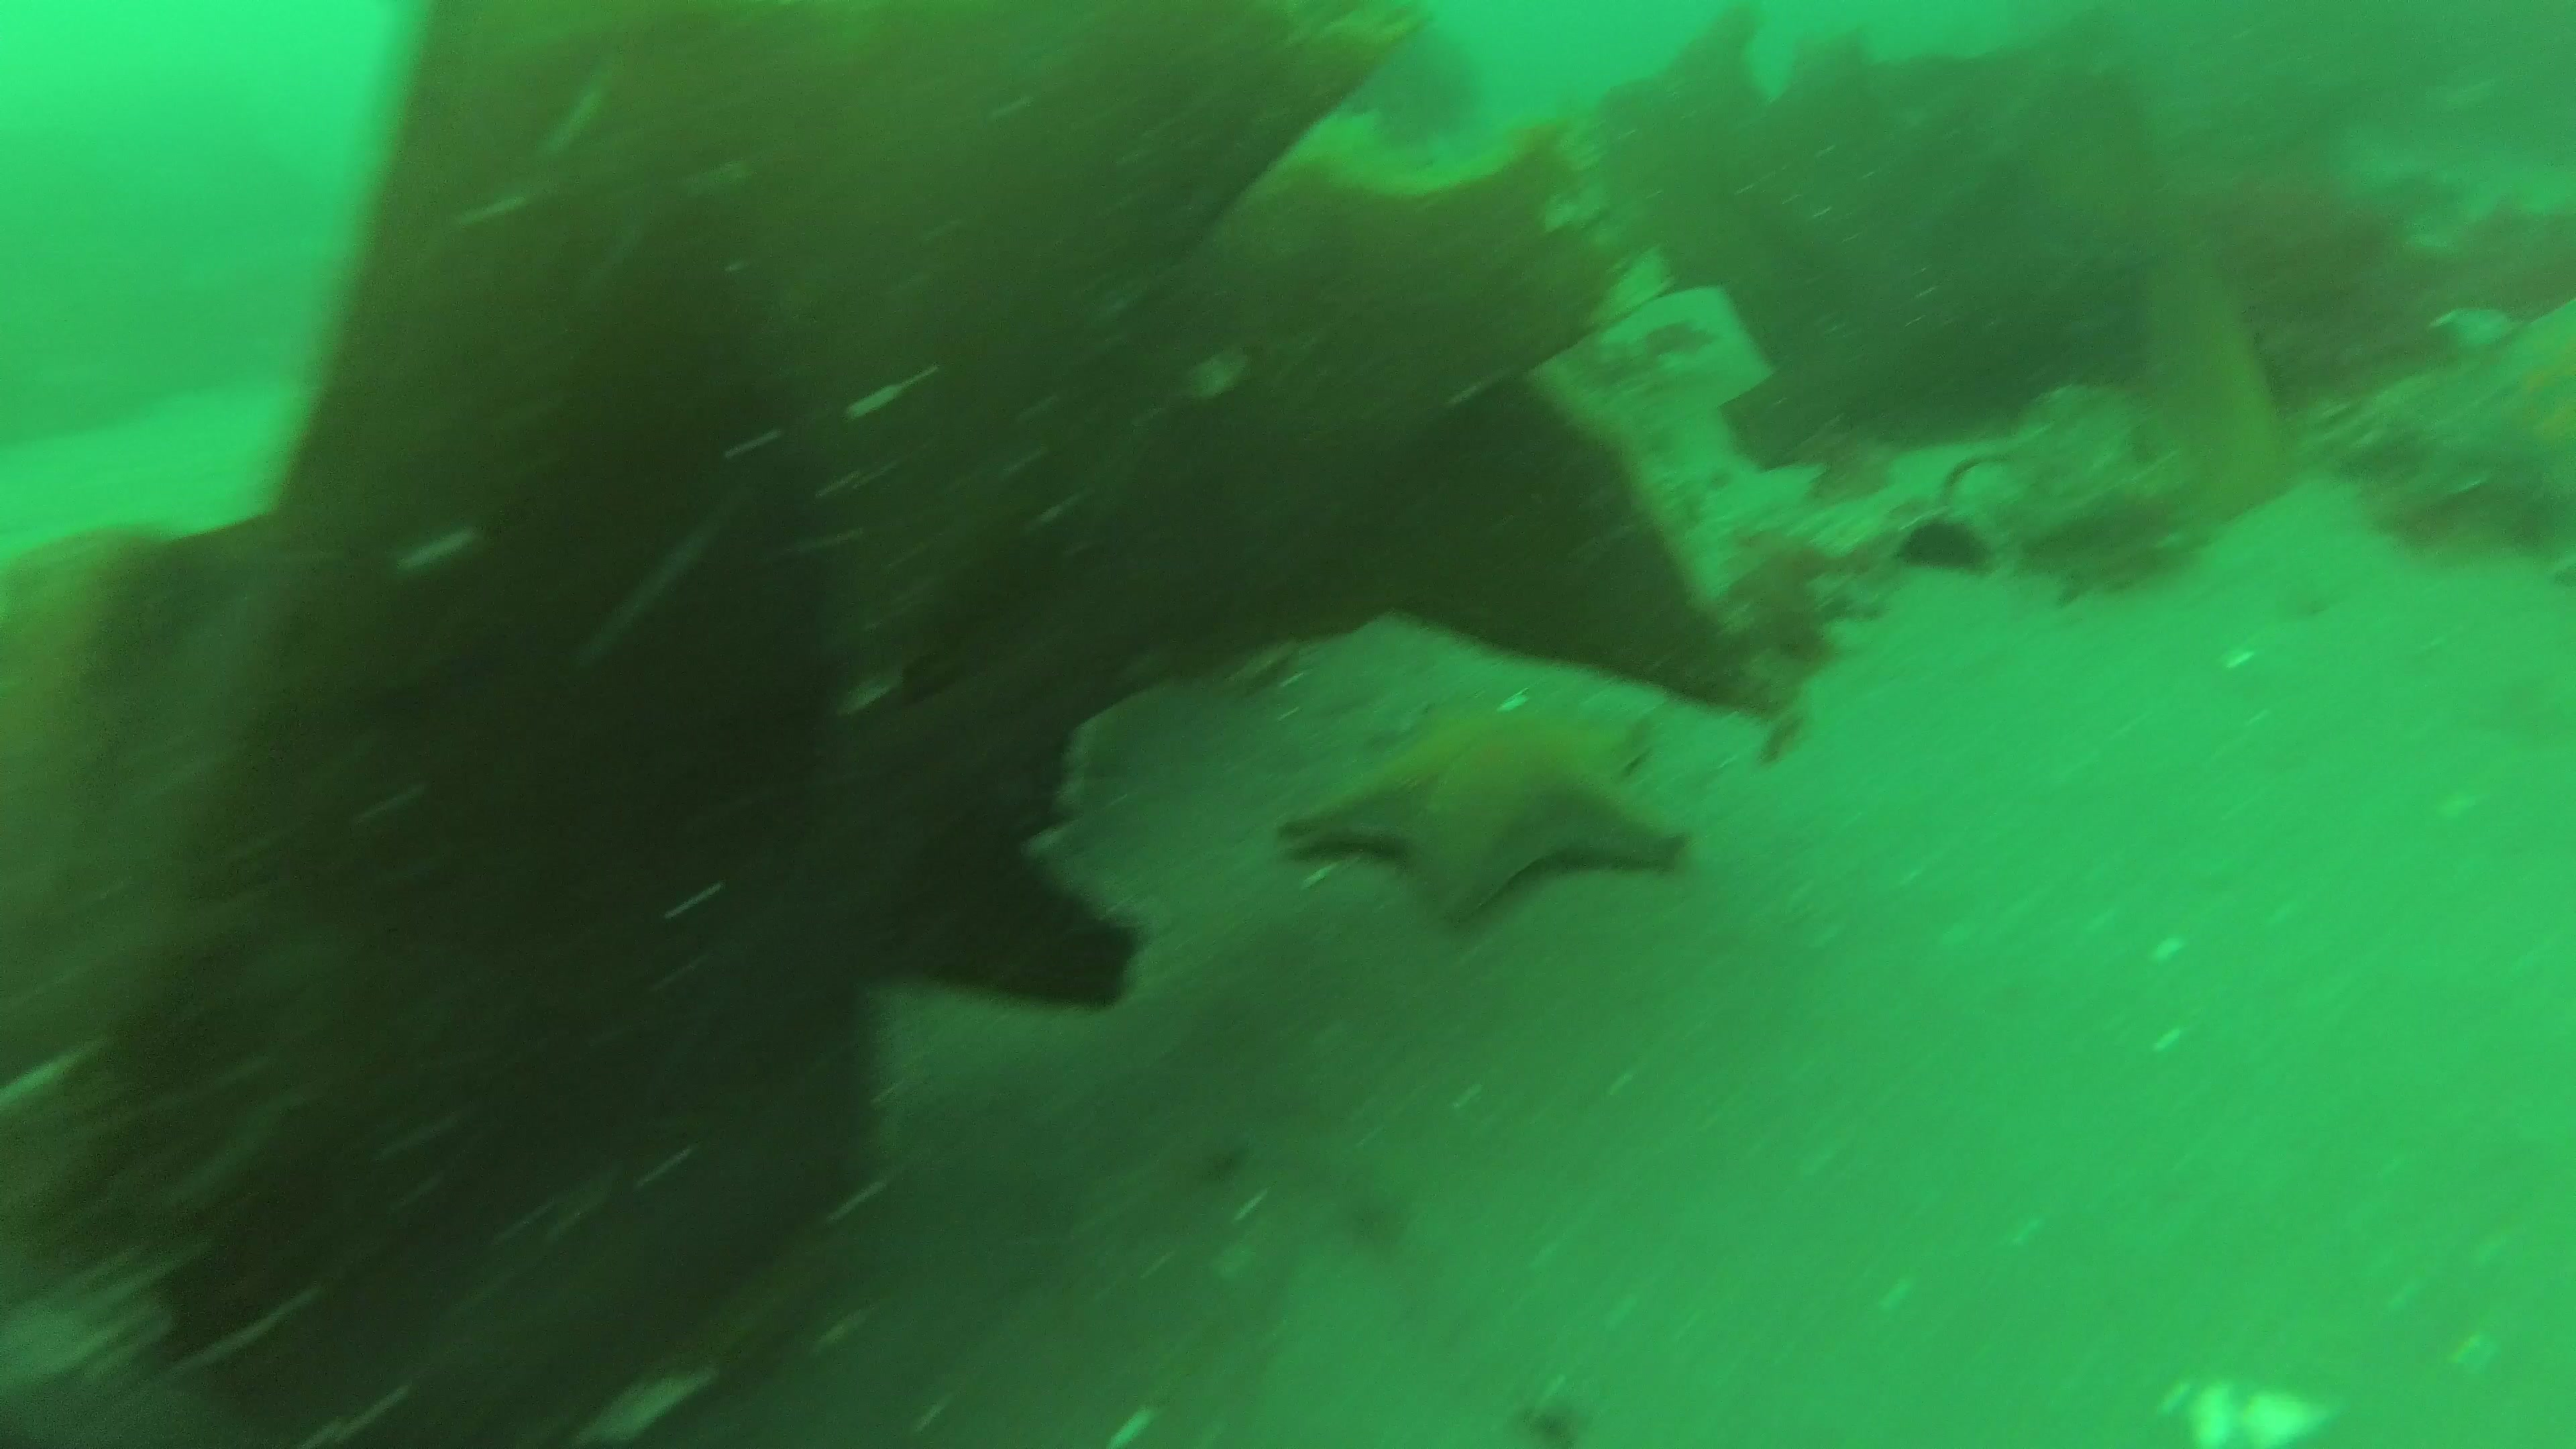starfish: (1274, 695, 1695, 931), (2390, 303, 2576, 522)
